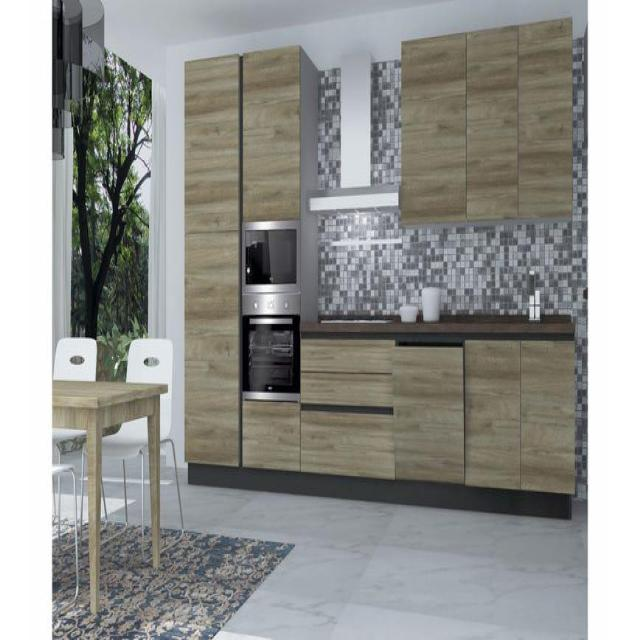dishwasher: (392, 334, 466, 482)
